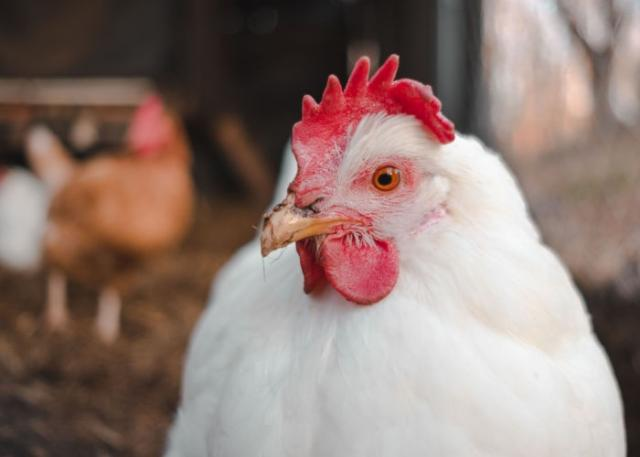Chicken: (166, 51, 627, 457)
